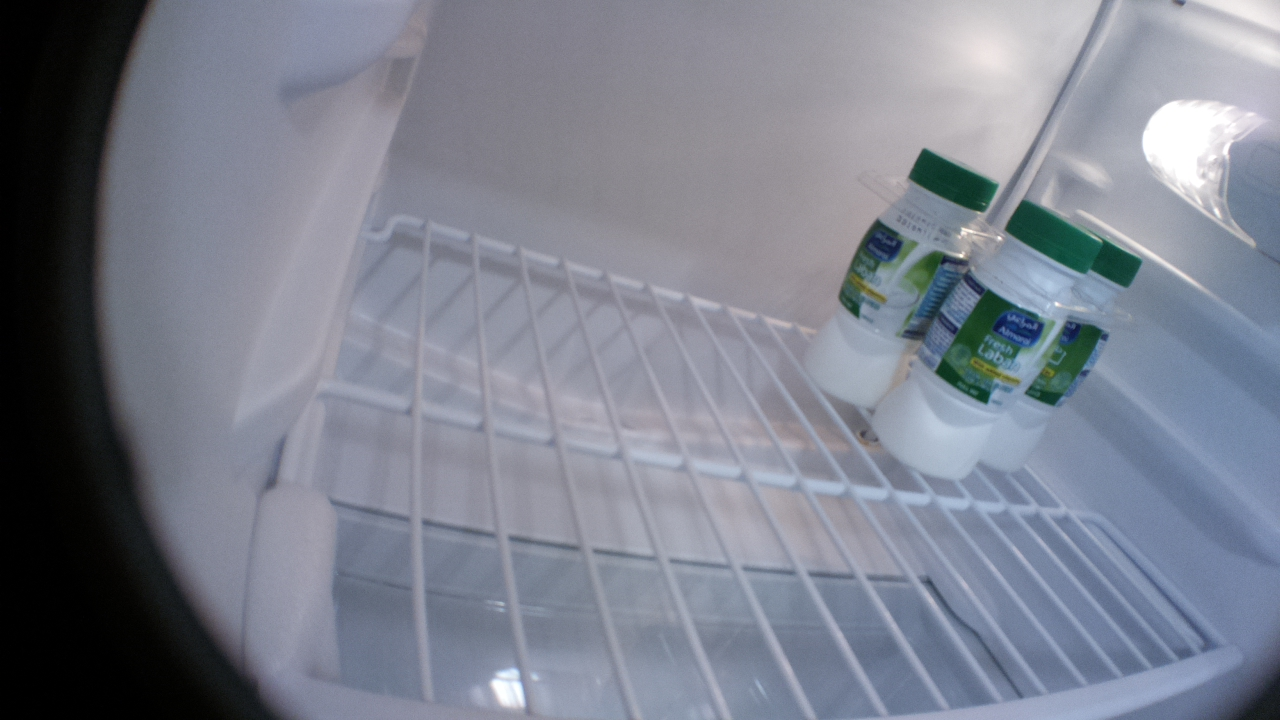laban: (871, 199, 1102, 482), (796, 147, 999, 410), (1015, 215, 1145, 525)
